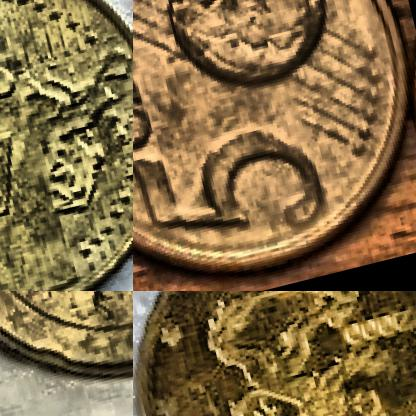coin: (133, 0, 415, 290), (0, 0, 132, 290), (133, 291, 415, 415), (0, 291, 132, 415)
